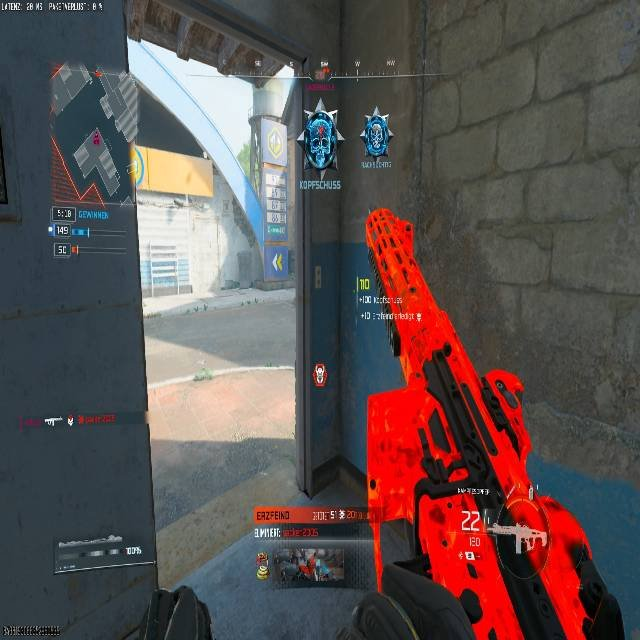player: (301, 98, 343, 179), (360, 107, 392, 165)
